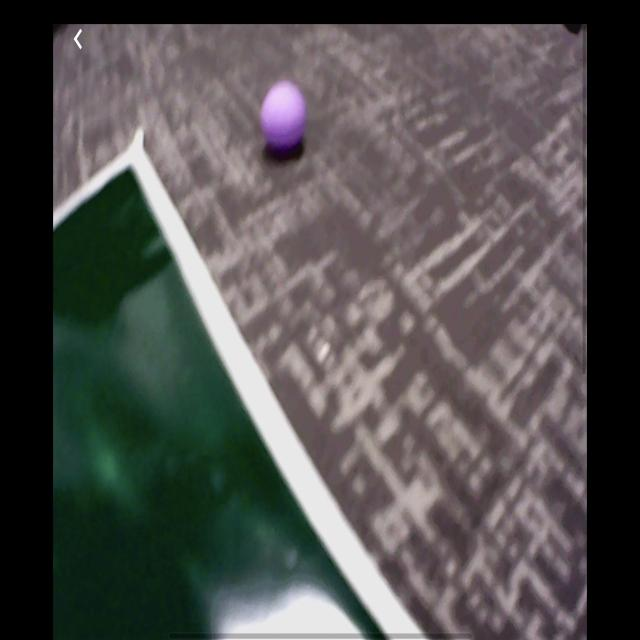ball: (260, 79, 308, 154)
